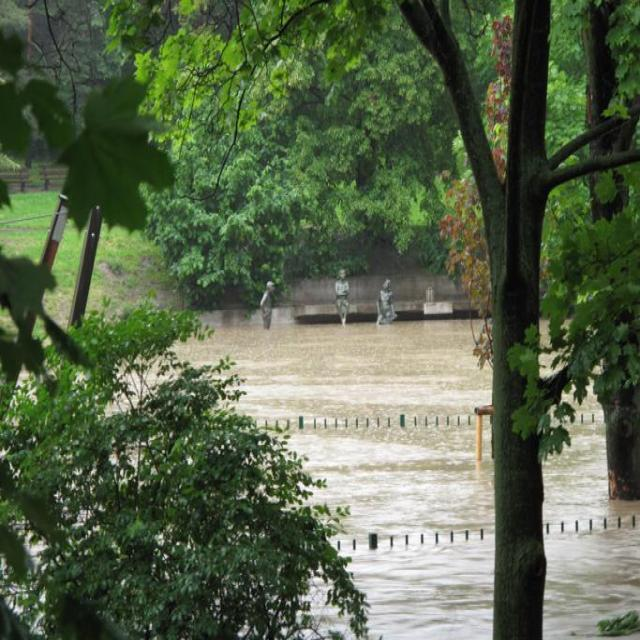flood: (173, 296, 621, 632)
